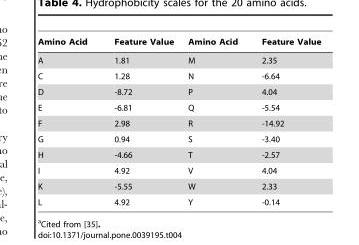table: (36, 37, 320, 206)
table column: (100, 37, 180, 206), (249, 37, 320, 206), (180, 37, 249, 206), (36, 37, 100, 206)
table column header: (36, 37, 320, 50)
table row: (36, 50, 320, 68), (36, 83, 320, 99), (36, 99, 320, 115), (36, 115, 320, 131), (36, 146, 320, 162), (36, 162, 320, 178), (36, 178, 320, 194), (36, 68, 320, 83), (36, 131, 320, 146), (36, 37, 320, 50), (36, 194, 320, 206)
